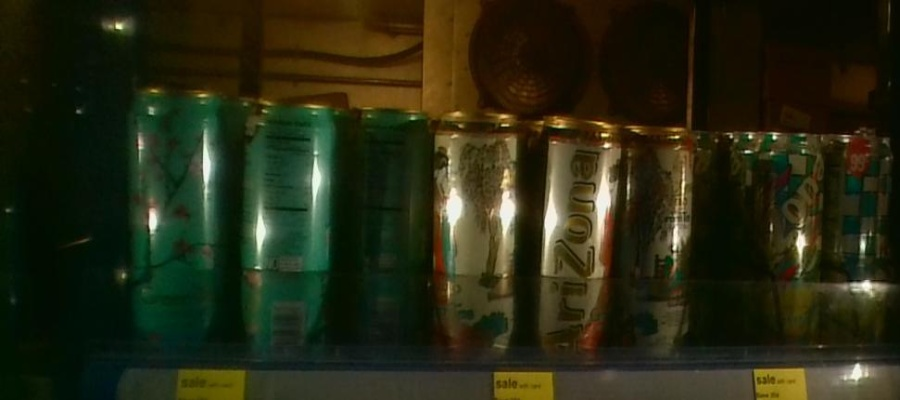bottle: (235, 80, 336, 272), (126, 79, 224, 272), (532, 102, 614, 281), (432, 104, 518, 274), (350, 96, 430, 269), (753, 119, 826, 284), (622, 116, 695, 279), (830, 118, 894, 283)
